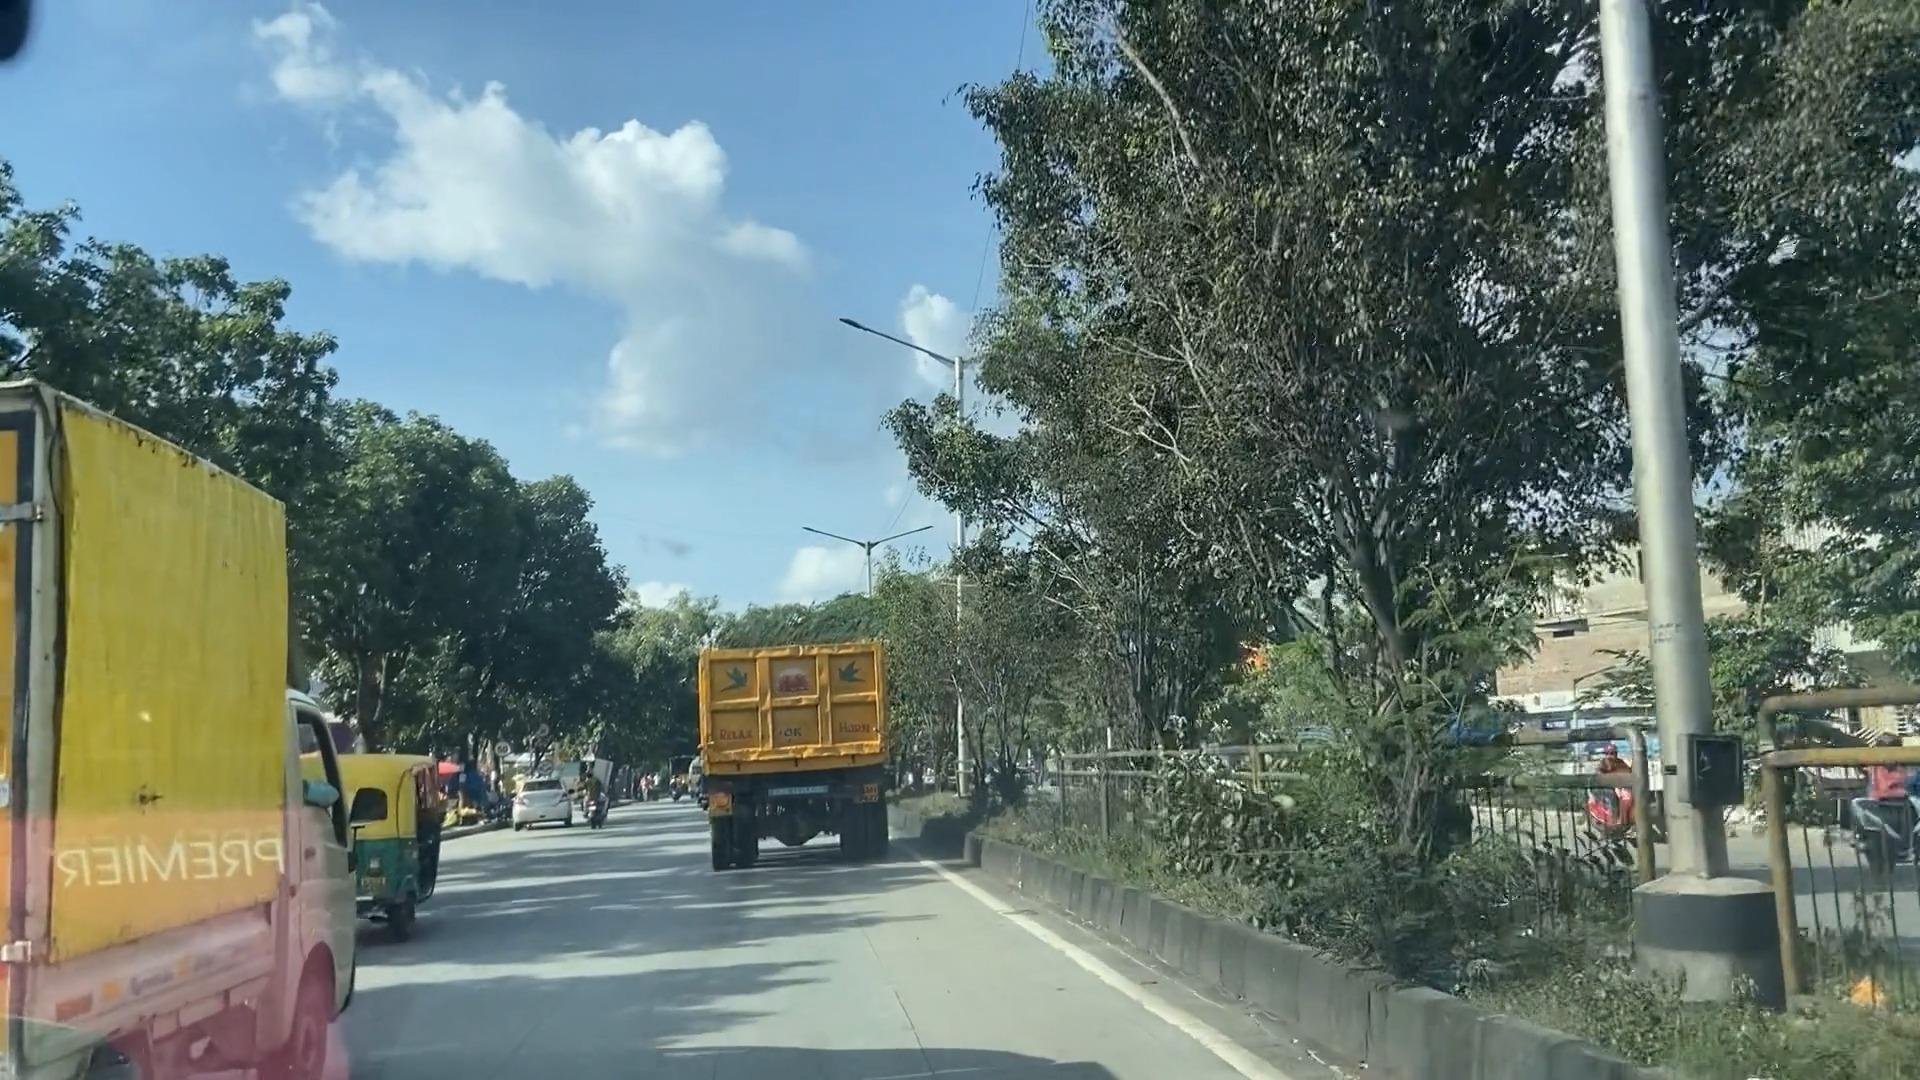HMV: (16, 382, 360, 1080), (707, 622, 890, 853)
